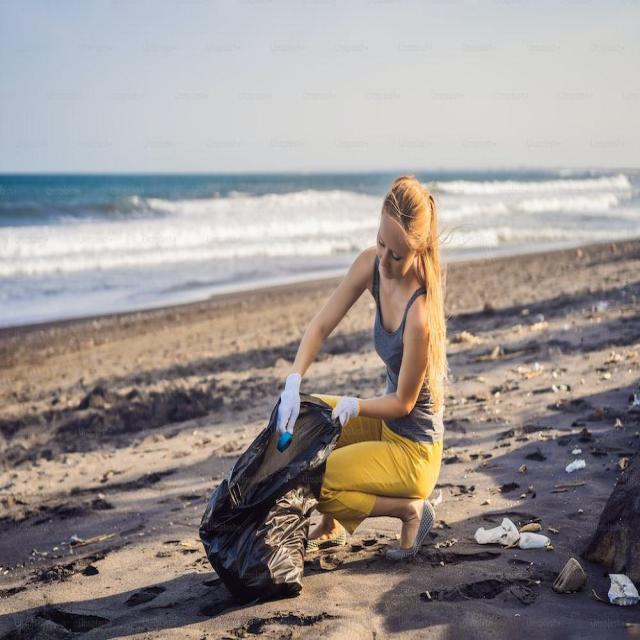trash: (208, 377, 338, 608), (476, 504, 552, 562), (601, 562, 639, 614)
